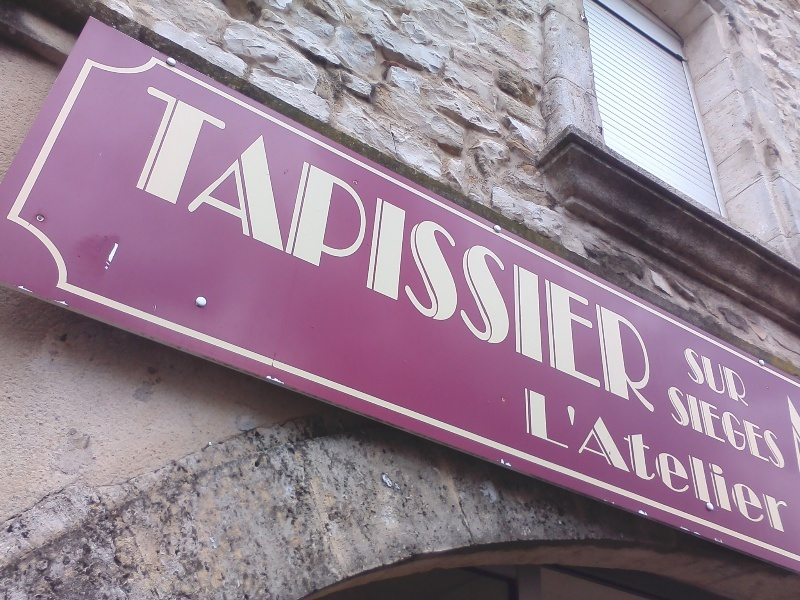text: (145, 82, 160, 418), (161, 82, 176, 418), (177, 82, 192, 418), (193, 82, 208, 418), (209, 82, 224, 418), (225, 82, 240, 418), (241, 82, 256, 418), (257, 82, 272, 418), (273, 82, 288, 418), (289, 82, 304, 418), (305, 82, 320, 418), (321, 82, 336, 418), (337, 82, 352, 418), (353, 82, 368, 418), (369, 82, 384, 418), (385, 82, 400, 418), (401, 82, 416, 418), (417, 82, 432, 418), (433, 82, 448, 418), (449, 82, 464, 418), (465, 82, 480, 418), (481, 82, 496, 418), (497, 82, 512, 418), (513, 82, 528, 418), (529, 82, 544, 418), (545, 82, 560, 418), (561, 82, 576, 418), (577, 82, 592, 418), (593, 82, 608, 418), (609, 82, 624, 418), (625, 82, 640, 418), (641, 82, 656, 418), (529, 381, 544, 539), (545, 381, 560, 539), (561, 381, 576, 539), (577, 381, 592, 539), (593, 381, 608, 539), (609, 381, 624, 539), (625, 381, 640, 539), (641, 381, 656, 539), (657, 381, 672, 539), (673, 381, 688, 539), (689, 381, 704, 539), (705, 381, 720, 539), (721, 381, 736, 539), (737, 381, 752, 539), (753, 381, 768, 539), (769, 381, 784, 539), (673, 383, 688, 473), (689, 383, 704, 473), (705, 383, 720, 473), (721, 383, 736, 473), (737, 383, 752, 473), (753, 383, 768, 473), (769, 383, 784, 473), (737, 345, 753, 409), (689, 345, 704, 409), (705, 345, 720, 409), (721, 345, 736, 409), (785, 381, 790, 539), (657, 82, 659, 418), (524, 381, 528, 539), (785, 383, 791, 473), (682, 345, 688, 409), (668, 383, 672, 473)
